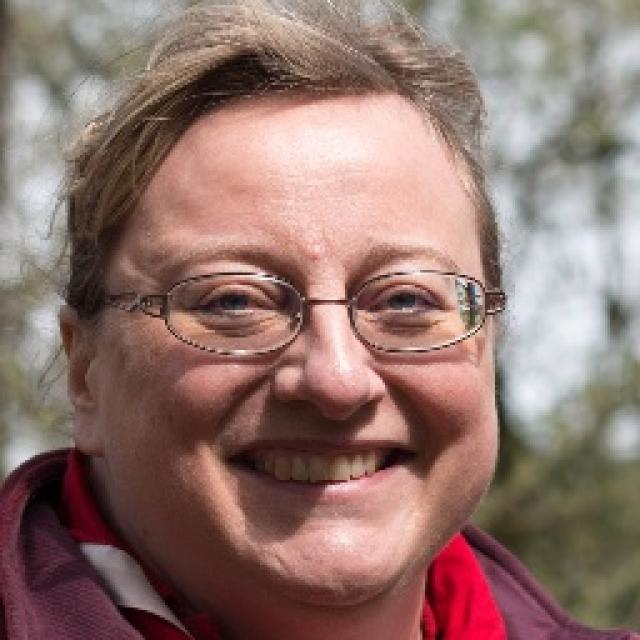earlobe: (60, 304, 107, 458)
